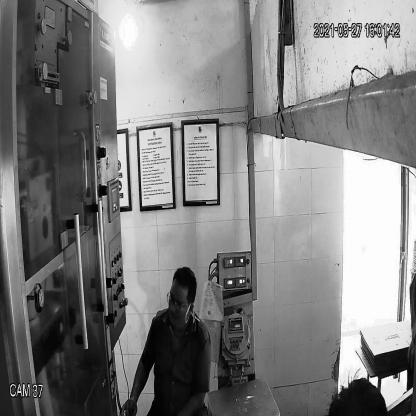goggles: (165, 285, 192, 314)
